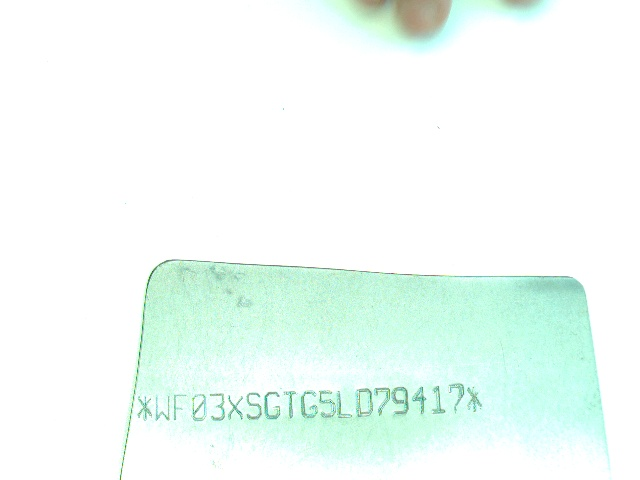0: (191, 393, 209, 422)
1: (428, 383, 446, 417)
3: (210, 392, 227, 423)
4: (411, 384, 428, 415)
5: (319, 389, 336, 418)
7: (447, 382, 466, 417), (374, 386, 391, 417)
9: (390, 385, 410, 417)
d: (354, 388, 376, 420)
f: (173, 392, 190, 423)
g: (300, 389, 320, 419), (263, 391, 283, 420)
l: (335, 390, 353, 419)
s: (245, 392, 263, 421)
t: (283, 390, 300, 421)
w: (153, 393, 172, 421)
x: (227, 392, 245, 422)
